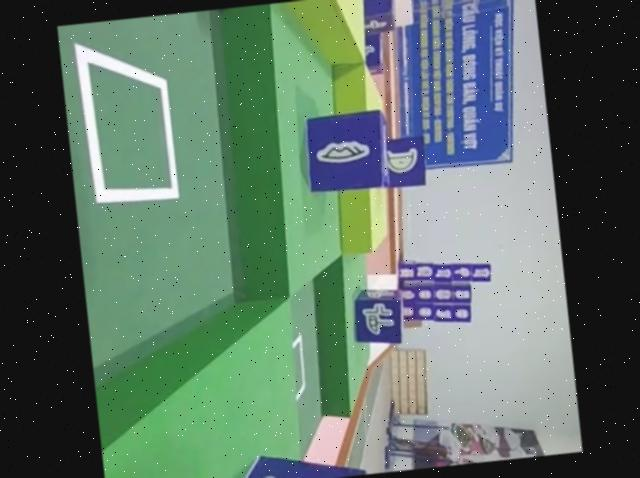R2 Real Blue: (300, 105, 395, 195), (196, 446, 365, 478), (350, 284, 408, 347), (378, 130, 429, 188), (356, 0, 396, 31)
